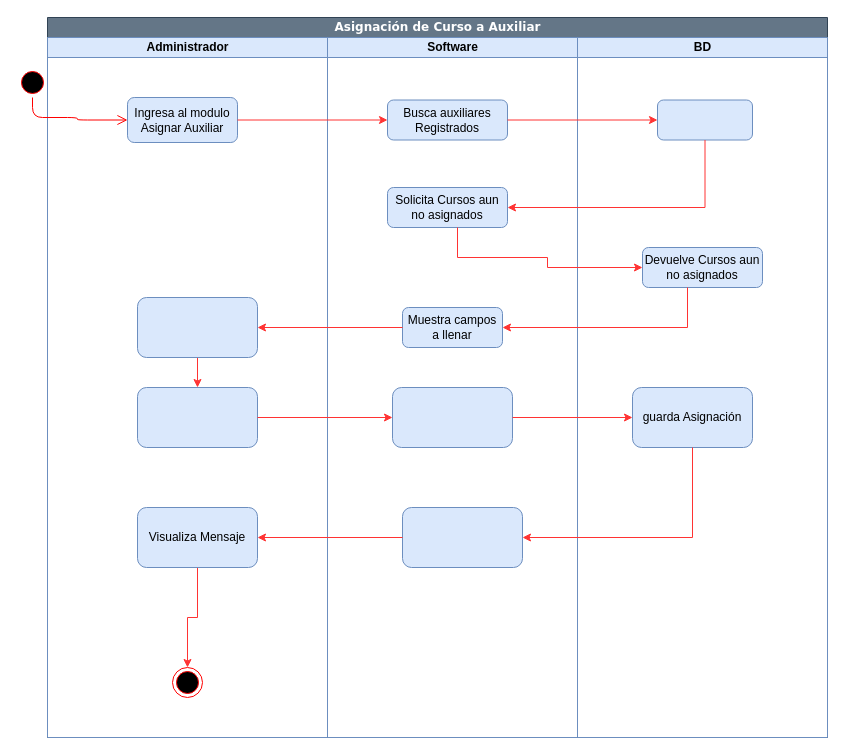
This 845x755 diagram has some shape labels left out. The centre of each missing label's shape, as x and y in pixels:
"Manda instruccion para asignar" belongs at pixel 452 417.
"Muestra mensaje Asignacion Guardada" belongs at pixel 462 537.
"presiona asignar" belongs at pixel 197 417.
"Regresa registros" belongs at pixel 704 119.
"Seleciona semestre,año,auxiliar y curso" belongs at pixel 197 327.
